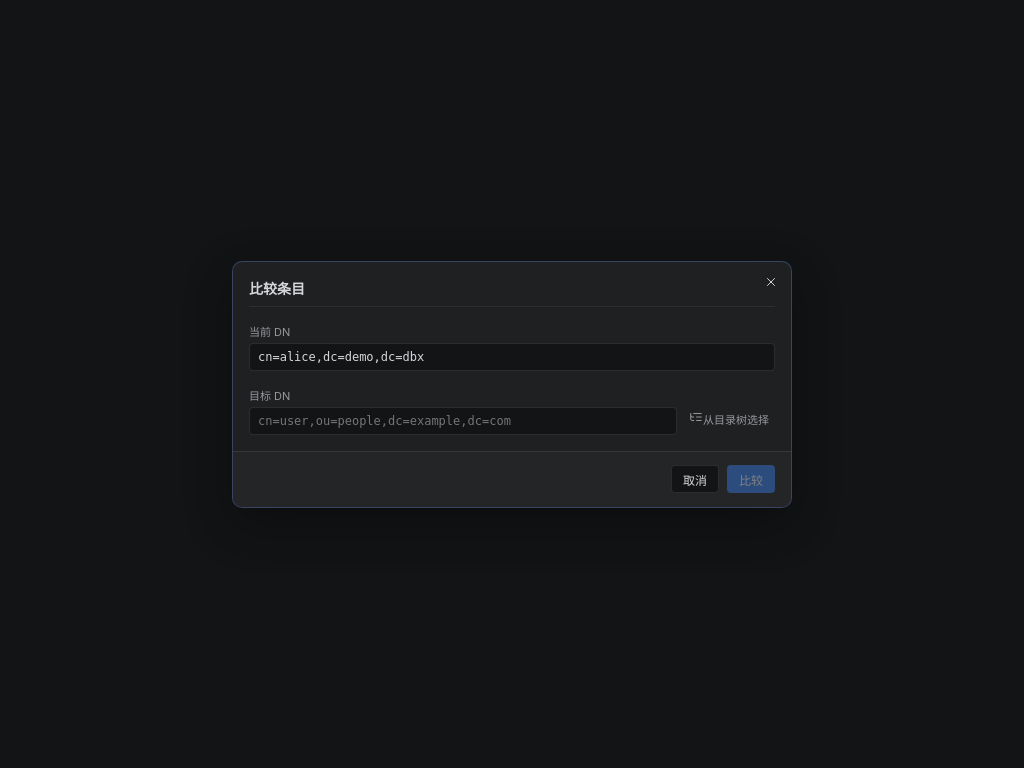
Test: CompareDialog › guards against double submit while the compare request is in flight
The image size is (1024, 768).
Type "cn=bob,dc=demo,dc=dbx" into the field with class "compare-target-input" at [463, 420], box [249,406,677,434]
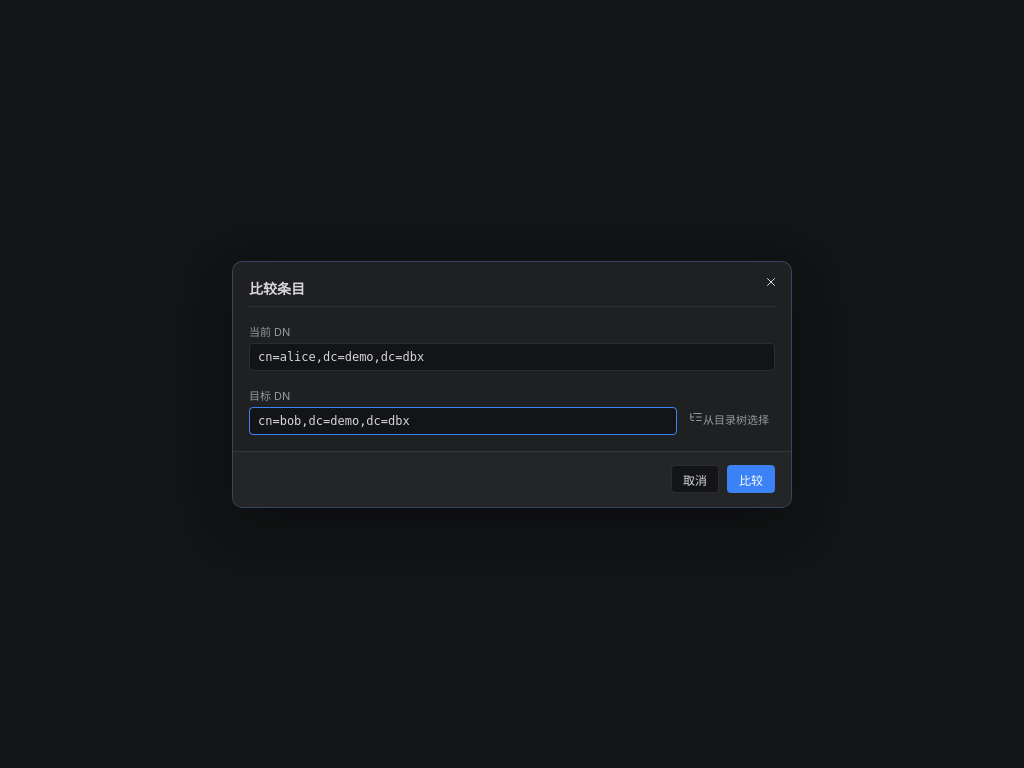
Click the button "比较" at [751, 479], box [727,465,775,493]
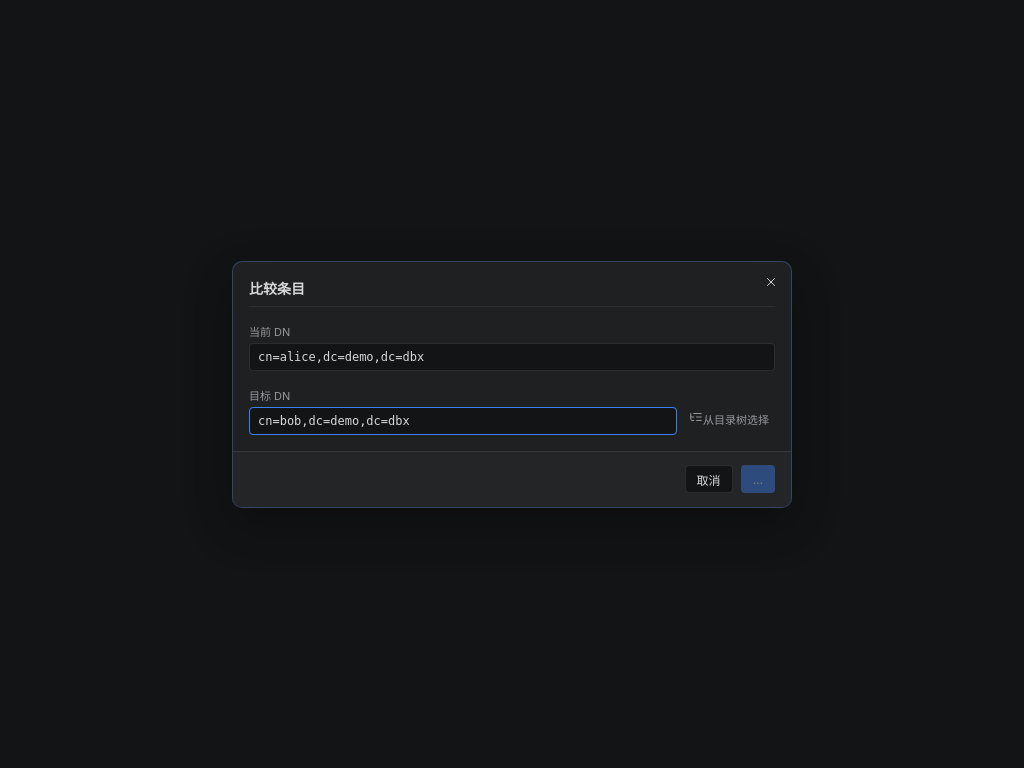
Result: the button "…" is shown
Result: the button "…" is disabled
Click the button "…" at [758, 479], box [741,465,775,493]
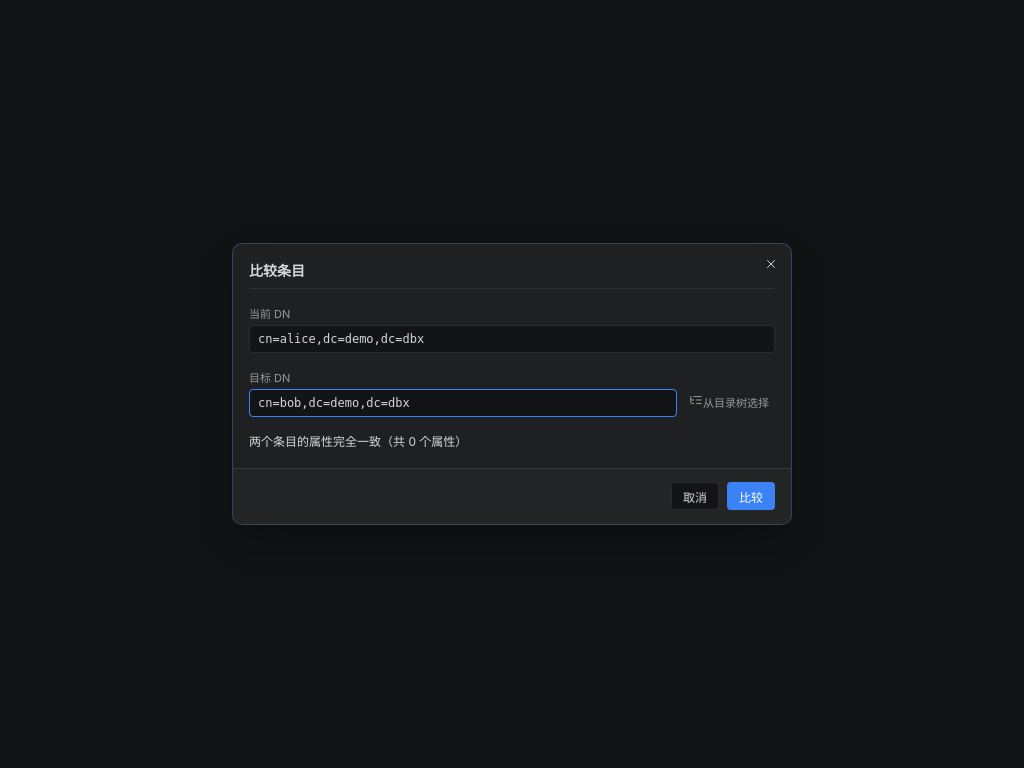
Result: the button "比较" is shown at [727,482,775,510]
